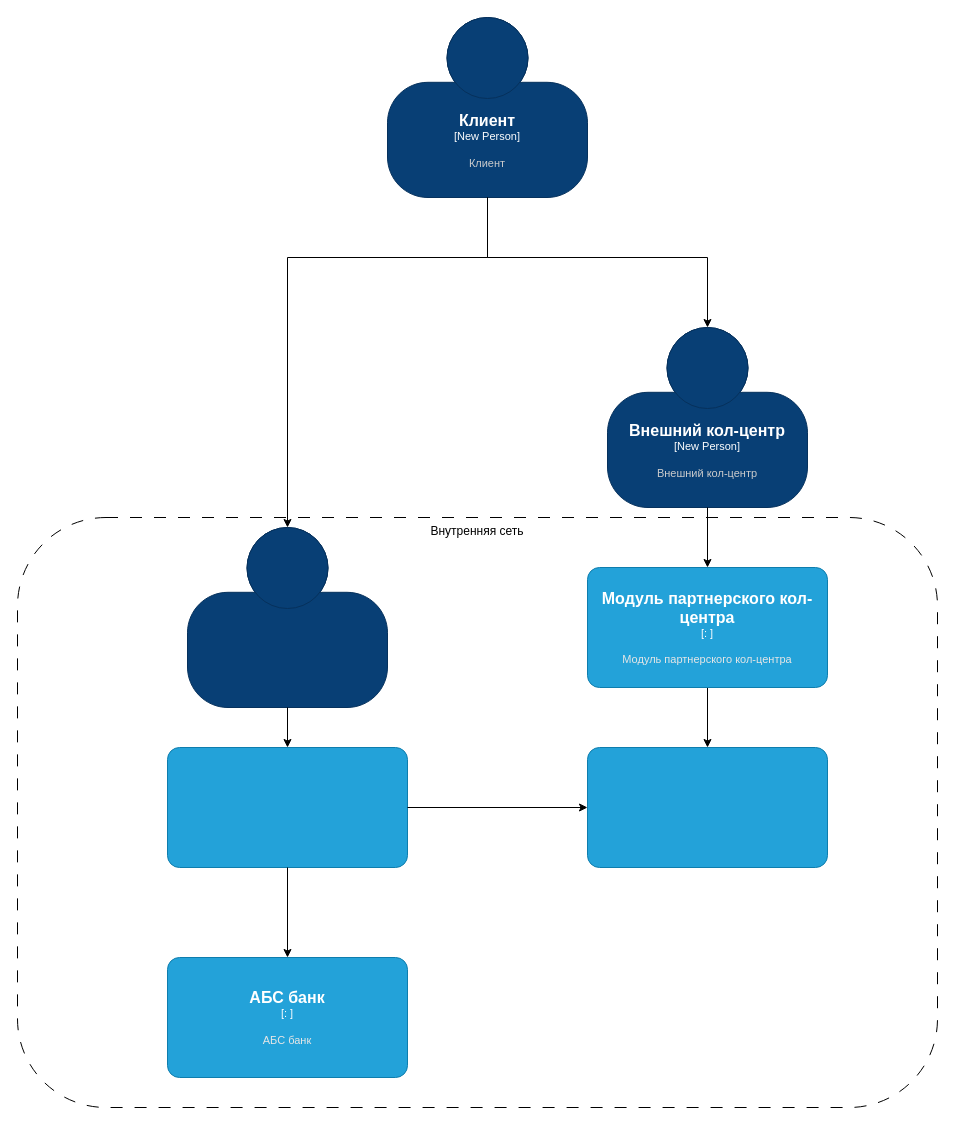
Image size: 955x1125. Some labels were removed from this diagram. Here are the shapes that lost their labels. From the top down, the centre of each, then its label:
At point (287, 617): "Внутренний кол-центр [New Person] Внутренний кол-центр".
At point (287, 807): "Модуль кол-центра [: ] Модуль кол-центра".
At point (707, 807): "SFTP сервер [: ] SFTP сервер".
